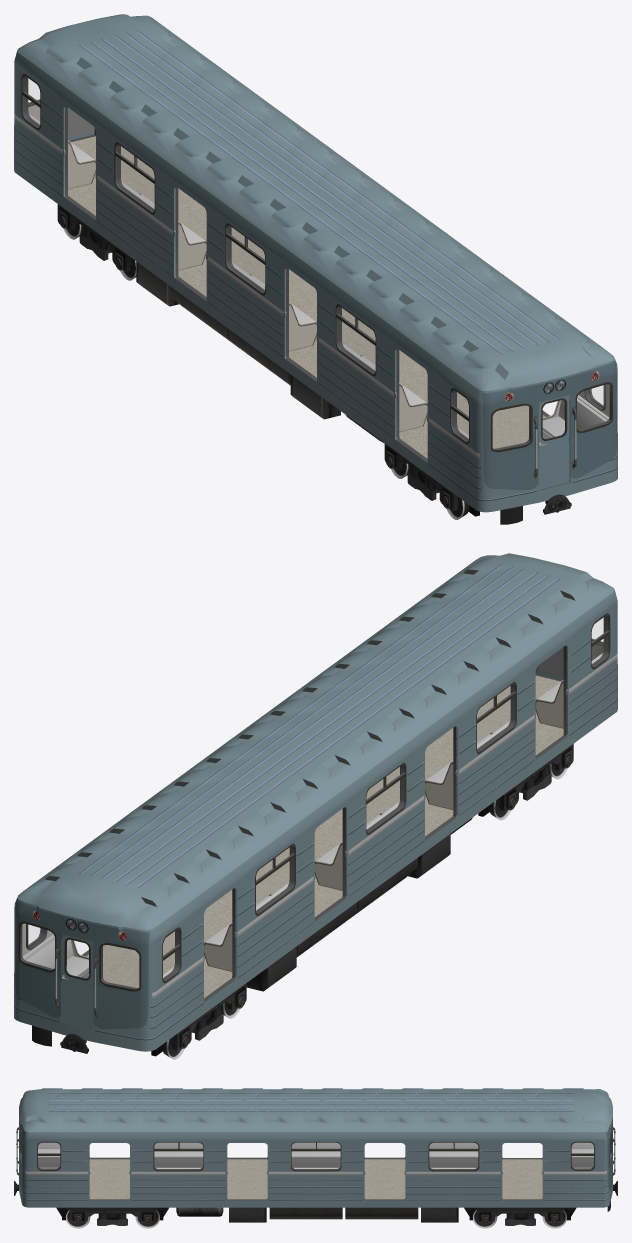
Rendered from SubwayTrain06_Body2.FBX.
The picture shows the model from 3 angles, top to bottom: view 1: azimuth 30°, elevation 25°; view 2: azimuth 150°, elevation 25°; view 3: azimuth 270°, elevation 25°; orthographic projection. The views are drawn at different scales.
Parts seen in each view (by area): view 1: SubwayTrain06_Roof, SubwayTrain06_Body1, SubwayTrain06_Inter, SubwayTrain06_Wheels, SubwayTrain06_InterBench, SubwayTrain_Bench01c, SubwayTrain06_DoorF1; view 2: SubwayTrain06_Roof, SubwayTrain06_Body1, SubwayTrain06_Inter, SubwayTrain06_Wheels, SubwayTrain06_InterBench, SubwayTrain_Bench01c, SubwayTrain06_DoorF2; view 3: SubwayTrain06_Body1, SubwayTrain06_Roof, SubwayTrain06_Inter, SubwayTrain06_Wheels, SubwayTrain_Bench01c, SubwayTrain06_Inter2.
Boxes of the visible parts, box(x1,y1,x2,y2) form: SubwayTrain06_Roof: box(17, 14, 614, 391); SubwayTrain06_Body1: box(14, 50, 617, 512); SubwayTrain06_Inter: box(22, 76, 611, 490); SubwayTrain06_Wheels: box(57, 204, 571, 524); SubwayTrain06_InterBench: box(68, 141, 561, 432); SubwayTrain_Bench01c: box(29, 114, 609, 438); SubwayTrain06_DoorF1: box(538, 396, 569, 489); SubwayTrain06_Roof: box(17, 553, 614, 930); SubwayTrain06_Body1: box(14, 590, 617, 1051); SubwayTrain06_Inter: box(20, 615, 609, 1029); SubwayTrain06_Wheels: box(32, 744, 573, 1059); SubwayTrain06_InterBench: box(71, 680, 563, 971); SubwayTrain_Bench01c: box(23, 653, 602, 978); SubwayTrain06_DoorF2: box(61, 935, 93, 1029); SubwayTrain06_Body1: box(19, 1117, 612, 1207); SubwayTrain06_Roof: box(19, 1088, 612, 1132); SubwayTrain06_Inter: box(19, 1133, 612, 1200); SubwayTrain06_Wheels: box(14, 1181, 617, 1228); SubwayTrain_Bench01c: box(38, 1142, 593, 1168); SubwayTrain06_Inter2: box(16, 1127, 615, 1176).
Size of the model in its own units: 4082 by 4898 by 24396.
